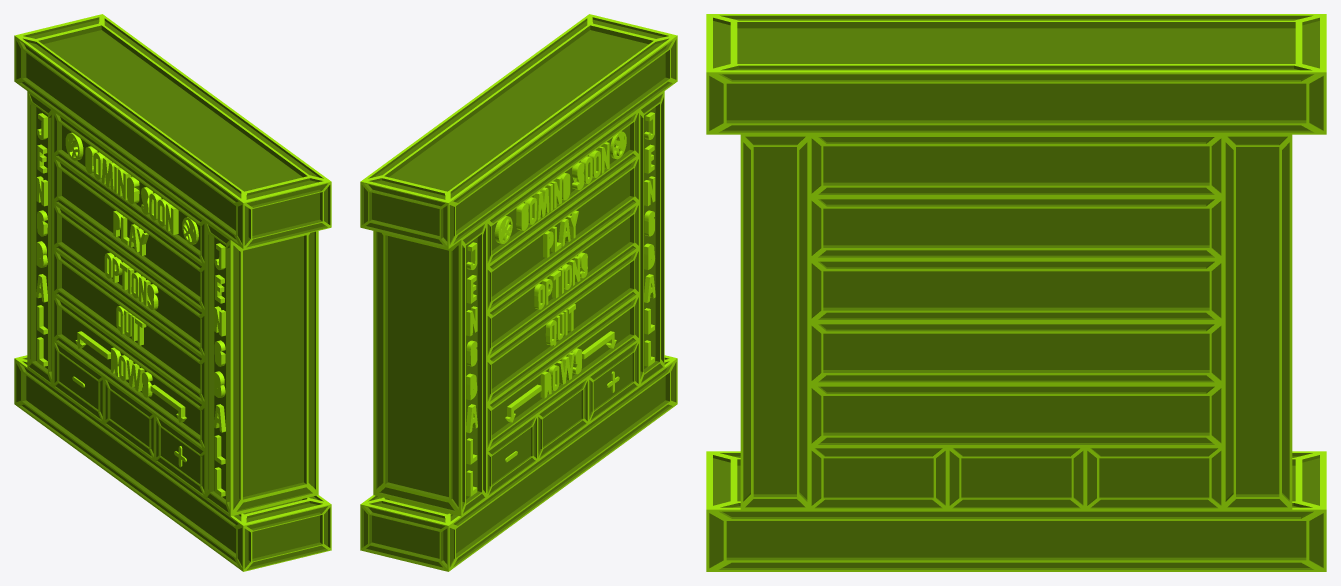
File: MenuOptions.fbx
3 views of the same model, side by side, from view 1: azimuth 30°, elevation 25°; view 2: azimuth 150°, elevation 25°; view 3: azimuth 270°, elevation 25° (orthographic). The views are drawn at different scales.
Parts seen in each view (by area): view 1: JengaPiece.011, JengaPiece.009, JengaPiece.010, JengaPiece.005, JengaPiece.007, JengaPiece.006, JengaPiece.004, JengaPiece.008, JengaPiece, ComingSoon, JengaPiece.002, JengaPiece.001 (+9 smaller); view 2: JengaPiece.011, JengaPiece.008, JengaPiece.010, JengaPiece.005, JengaPiece.007, JengaPiece.006, JengaPiece.004, JengaPiece.009, JengaPiece, ComingSoon, JengaPiece.002, JengaPiece.001 (+9 smaller); view 3: JengaPiece.011, JengaPiece.010, JengaPiece, JengaPiece.008, JengaPiece.009, JengaPiece.005, JengaPiece.007, JengaPiece.004, JengaPiece.006, JengaPiece.001, JengaPiece.002, JengaPiece.003.
Part boxes in pixels (box(x1,y1,x2,y2)): JengaPiece.011: box(14, 14, 331, 248); JengaPiece.009: box(205, 221, 318, 516); JengaPiece.010: box(14, 355, 331, 571); JengaPiece.005: box(52, 248, 205, 405); JengaPiece.007: box(52, 156, 205, 312); JengaPiece.006: box(52, 202, 205, 359); JengaPiece.004: box(52, 294, 205, 451); JengaPiece.008: box(27, 91, 52, 385); JengaPiece: box(52, 110, 205, 266); ComingSoon: box(85, 146, 178, 234); JengaPiece.002: box(103, 377, 154, 460); JengaPiece.001: box(52, 340, 103, 422); JengaPiece.011: box(360, 14, 677, 248); JengaPiece.008: box(373, 221, 486, 516); JengaPiece.010: box(360, 355, 677, 571); JengaPiece.005: box(486, 248, 639, 405); JengaPiece.007: box(486, 156, 639, 312); JengaPiece.006: box(486, 202, 639, 359); JengaPiece.004: box(486, 294, 639, 451); JengaPiece.009: box(639, 91, 664, 385); JengaPiece: box(486, 110, 639, 266); ComingSoon: box(516, 142, 609, 230); JengaPiece.002: box(537, 377, 588, 460); JengaPiece.001: box(486, 415, 537, 497); JengaPiece.011: box(706, 14, 1326, 134); JengaPiece.010: box(706, 451, 1326, 571); JengaPiece: box(809, 134, 1223, 197); JengaPiece.008: box(1223, 134, 1292, 509); JengaPiece.009: box(740, 134, 809, 509); JengaPiece.005: box(809, 322, 1223, 384); JengaPiece.007: box(809, 197, 1223, 259); JengaPiece.004: box(809, 384, 1223, 446); JengaPiece.006: box(809, 259, 1223, 321); JengaPiece.001: box(1085, 447, 1223, 509); JengaPiece.002: box(947, 447, 1085, 509); JengaPiece.003: box(809, 447, 947, 509).
Bounding box in the file's own units: 101 × 400 × 450.
